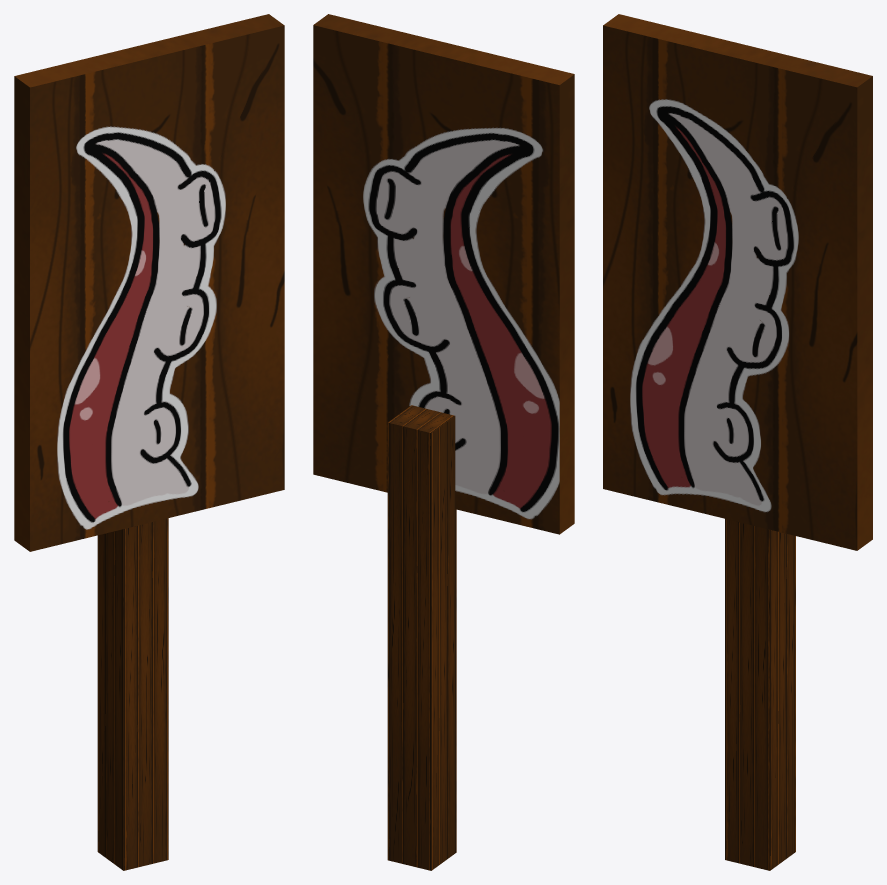
The model's file is Tentacle_Right_Idle_1.fbx.
3 views of the same model, side by side, from view 1: azimuth 30°, elevation 25°; view 2: azimuth 150°, elevation 25°; view 3: azimuth 330°, elevation 25° (orthographic). The views are drawn at different scales.
Parts seen in each view (by area): view 1: pCube19; view 2: pCube19; view 3: pCube19.
Part boxes in pixels (x1,y1,x2,y2): pCube19: (14, 14, 284, 870); pCube19: (313, 14, 574, 870); pCube19: (603, 14, 872, 870).
Bounding box in the file's own units: 15.82 × 48.69 × 4.34.
2 materials, 2 textured.
